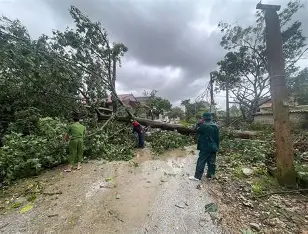ROAD_OBSTACLE: (5, 30, 260, 185)
